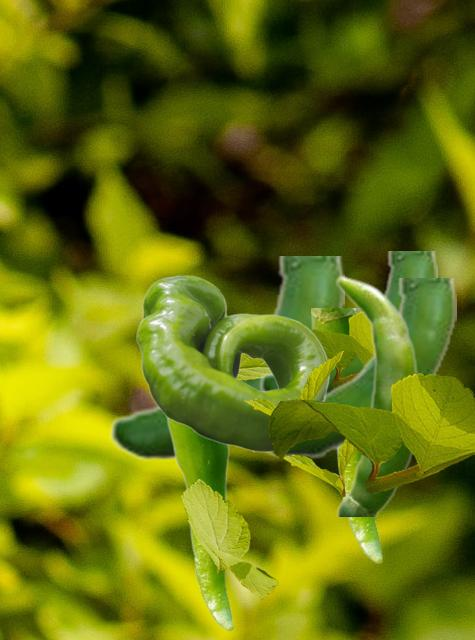green_chili: (108, 256, 343, 462), (257, 278, 455, 459), (136, 275, 328, 451), (258, 251, 436, 390), (334, 274, 419, 515), (311, 308, 381, 562), (166, 418, 232, 630)
